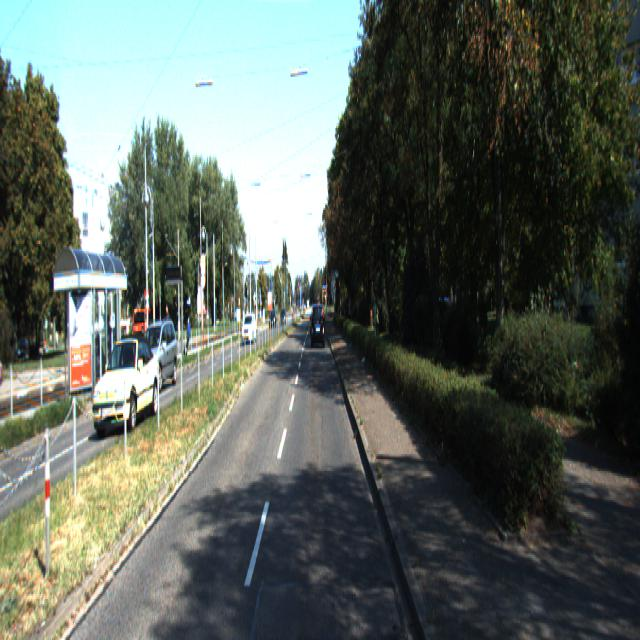Car: (93, 336, 161, 439), (136, 318, 178, 395), (311, 304, 325, 350), (241, 315, 257, 347)
